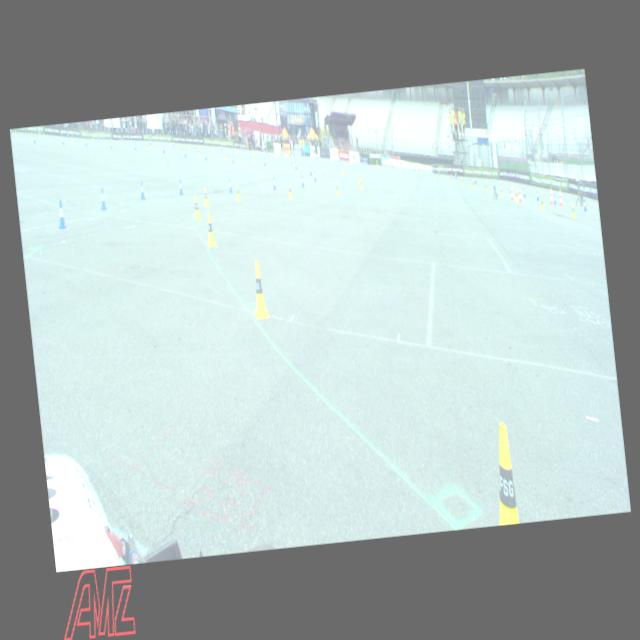blue_cone: (56, 199, 66, 228), (99, 187, 106, 210), (139, 180, 145, 198), (178, 178, 183, 194), (228, 178, 232, 192), (272, 177, 276, 190), (552, 193, 556, 204), (583, 199, 586, 210), (301, 176, 304, 187), (313, 171, 316, 182), (509, 184, 512, 193), (309, 165, 311, 174), (536, 191, 538, 200), (232, 154, 234, 163), (193, 142, 196, 148), (204, 152, 206, 160), (522, 188, 524, 196), (134, 142, 136, 150), (263, 157, 265, 165), (33, 134, 35, 142), (110, 140, 112, 148), (492, 180, 494, 188), (294, 160, 296, 168), (412, 164, 414, 172), (454, 170, 456, 178), (474, 175, 476, 182), (62, 136, 64, 143), (184, 150, 186, 156), (163, 146, 165, 152), (149, 139, 151, 145), (432, 168, 434, 174), (220, 144, 222, 150), (67, 132, 69, 138), (266, 147, 268, 153), (390, 162, 392, 168), (85, 138, 86, 146), (10, 129, 12, 133), (242, 147, 244, 151), (173, 140, 174, 146), (98, 136, 99, 140), (289, 152, 290, 156), (339, 157, 340, 161), (364, 160, 364, 164)
large_orange_cone: (509, 182, 514, 200), (517, 184, 522, 202), (548, 186, 552, 204), (558, 188, 562, 205)
yellow_cone: (482, 422, 526, 525), (250, 259, 268, 317), (204, 212, 216, 246), (192, 194, 200, 220), (234, 183, 240, 200), (203, 187, 208, 206), (570, 204, 576, 217), (288, 182, 292, 198), (540, 196, 544, 208), (335, 182, 338, 194), (356, 172, 359, 183), (515, 190, 518, 200), (252, 154, 255, 161), (472, 178, 474, 188), (500, 186, 502, 196), (360, 178, 362, 188), (485, 182, 487, 191), (234, 147, 237, 153), (323, 162, 325, 170), (270, 148, 272, 156), (198, 148, 200, 155), (223, 151, 225, 158), (460, 177, 462, 184), (341, 167, 343, 174), (418, 167, 420, 174), (450, 174, 452, 181), (30, 132, 32, 139), (376, 159, 378, 166), (438, 171, 440, 178), (292, 159, 294, 166), (14, 130, 16, 136), (146, 142, 148, 148), (120, 138, 122, 144), (182, 146, 184, 152), (71, 136, 73, 142), (38, 132, 40, 138), (290, 152, 292, 158), (310, 153, 312, 159), (188, 143, 190, 148), (399, 164, 401, 169), (170, 142, 171, 148), (92, 135, 93, 141), (213, 144, 214, 150), (253, 148, 254, 154), (61, 133, 62, 138), (331, 156, 332, 161), (350, 159, 350, 163)
